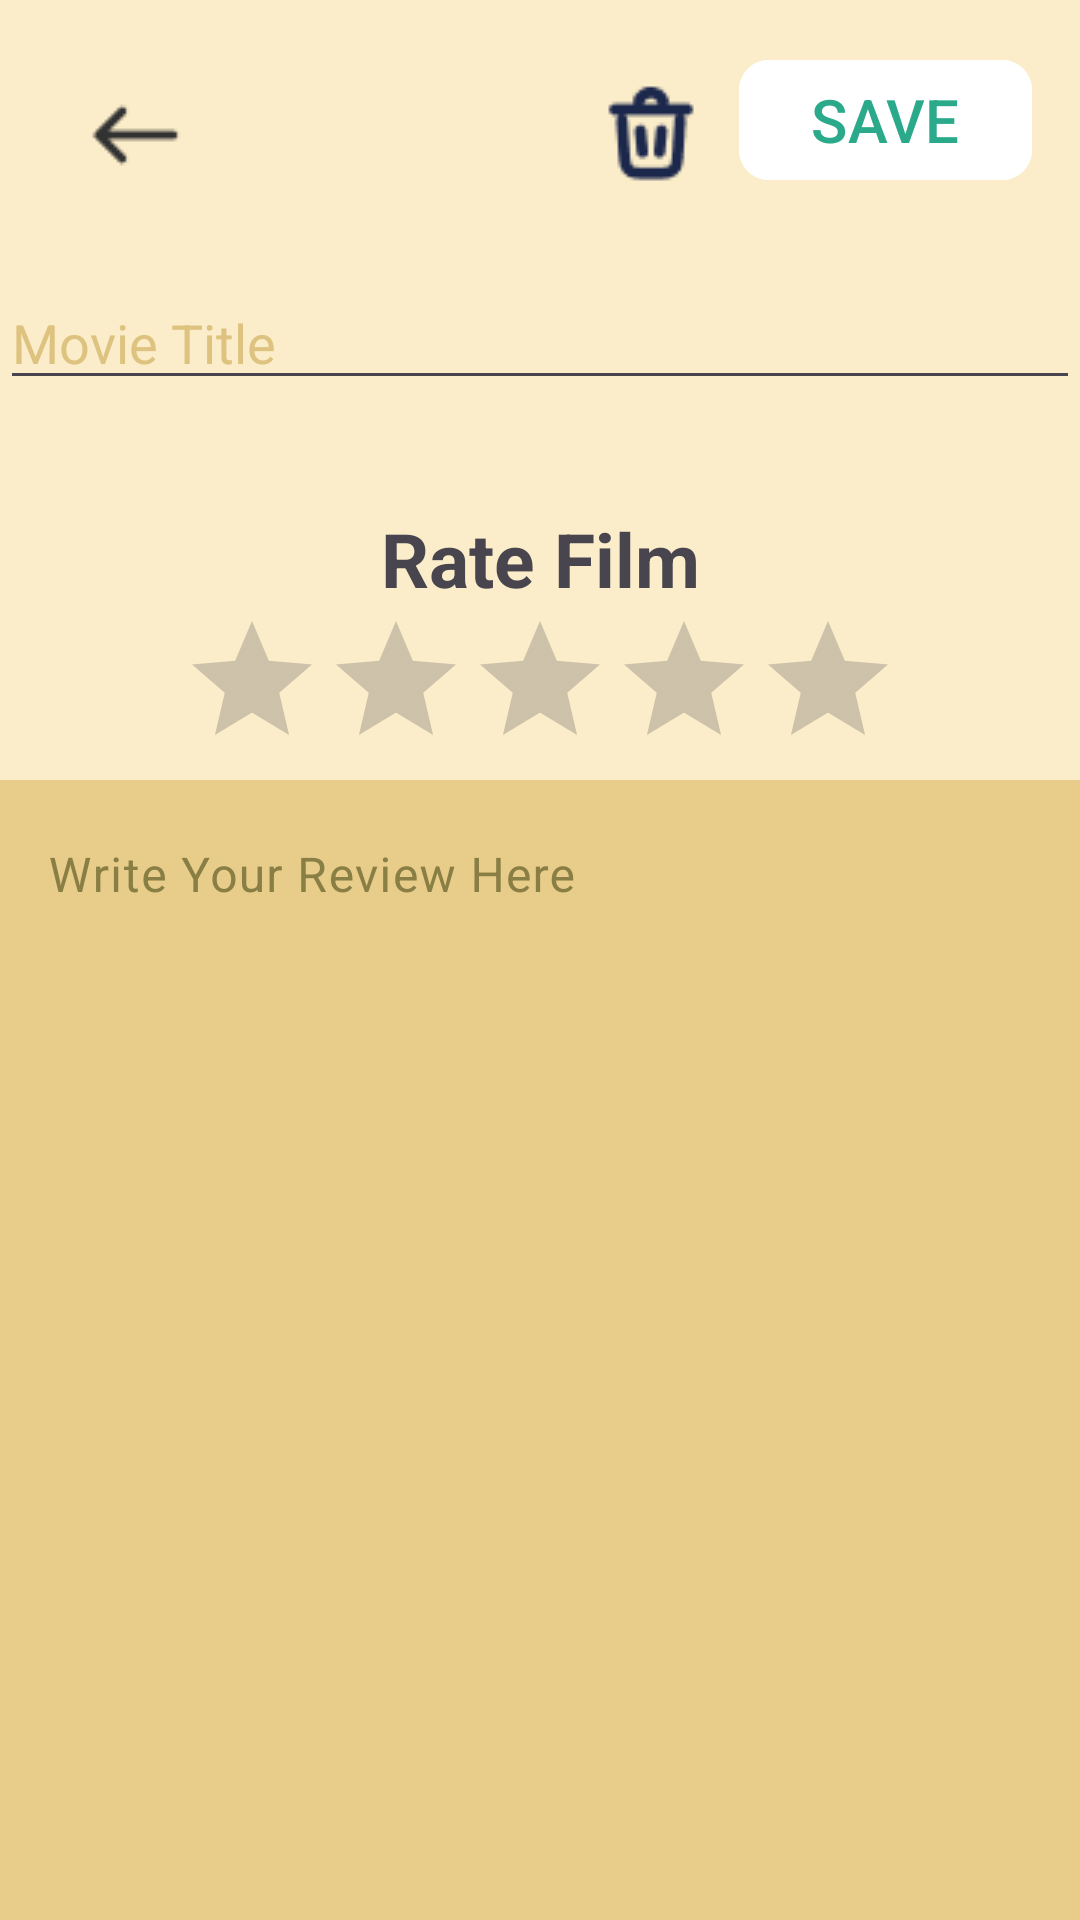

Named icons in this screenshot (1080px×1920px) and their bounding boxes, (x1, y1, x2, y2):
trash bin minimalistic: (608, 86, 694, 181)
